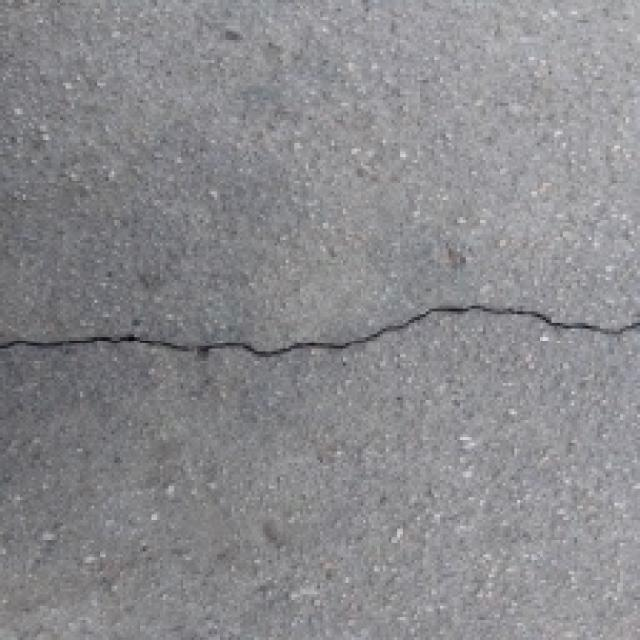crack: (10, 296, 640, 376)
